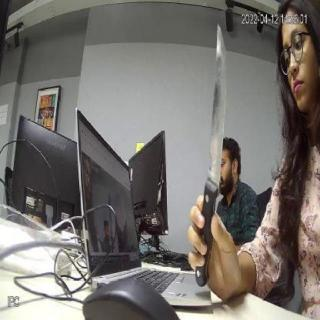knife: (202, 22, 228, 190)
